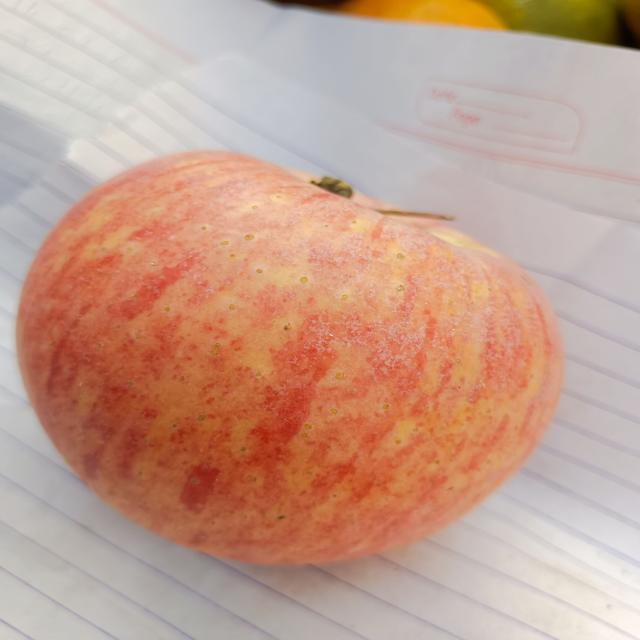Fresh Apple: (17, 152, 567, 568)
